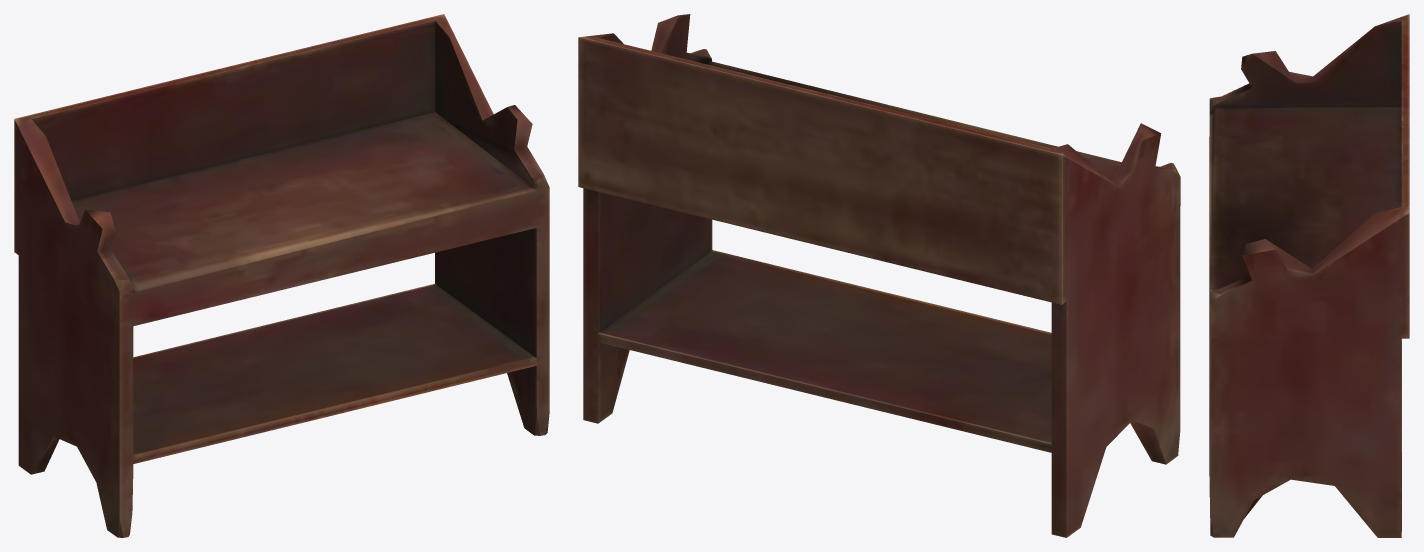
The model's file is painted_wooden_bench_lod1.glb.
The picture shows the model from 3 angles, left to right: view 1: azimuth 30°, elevation 25°; view 2: azimuth 150°, elevation 25°; view 3: azimuth 270°, elevation 25°; orthographic projection. The views are drawn at different scales.
Visible parts, largest first — view 1: painted_wooden_bench; view 2: painted_wooden_bench; view 3: painted_wooden_bench.
Part boxes in pixels (x1=…): painted_wooden_bench: x1=14, y1=14, x2=549, y2=537; painted_wooden_bench: x1=578, y1=14, x2=1180, y2=537; painted_wooden_bench: x1=1209, y1=14, x2=1409, y2=537.
Size of the model in its own units: 1.16 by 0.8893 by 0.4965.
1 material, 1 textured.
